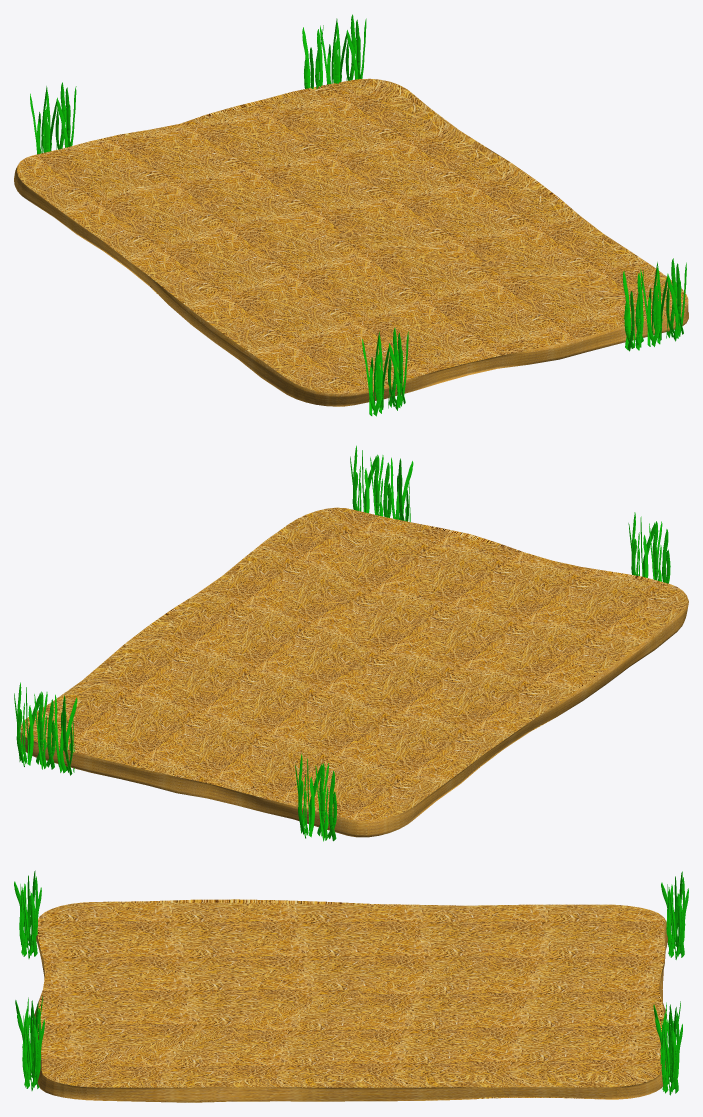
The model's file is islaFrenteIzq.glb.
3 renders of one model, top to bottom at view 1: azimuth 30°, elevation 25°; view 2: azimuth 150°, elevation 25°; view 3: azimuth 270°, elevation 25°, orthographic. The views are drawn at different scales.
Visible parts, largest first — view 1: Cube.001, Cone, Cone.002, Cone.006, Cone.001, Cone.007, Cone.009, Cone.003, Cone.008, Cone.004, Cone.005; view 2: Cube.001, Cone.008, Cone.004, Cone.003, Cone.009, Cone.005, Cone.001, Cone.007, Cone.002, Cone, Cone.006; view 3: Cube.001, Cone.009, Cone.003, Cone.006, Cone.002, Cone.007, Cone.001, Cone.008, Cone.004.
Boxes of the visible parts, bbox=[...] form: Cube.001: bbox=[14, 78, 688, 406]; Cone: bbox=[623, 270, 643, 351]; Cone.002: bbox=[666, 258, 686, 341]; Cone.006: bbox=[388, 328, 408, 410]; Cone.001: bbox=[640, 262, 667, 346]; Cone.007: bbox=[362, 331, 389, 416]; Cone.009: bbox=[55, 82, 76, 149]; Cone.003: bbox=[345, 14, 366, 80]; Cone.008: bbox=[30, 86, 56, 154]; Cone.004: bbox=[320, 18, 346, 84]; Cone.005: bbox=[302, 25, 323, 88]; Cube.001: bbox=[20, 507, 688, 837]; Cone.008: bbox=[315, 763, 336, 841]; Cone.004: bbox=[34, 691, 55, 769]; Cone.003: bbox=[14, 682, 40, 766]; Cone.009: bbox=[295, 754, 322, 838]; Cone.005: bbox=[54, 694, 77, 775]; Cone.001: bbox=[370, 454, 391, 517]; Cone.007: bbox=[649, 521, 670, 583]; Cone.002: bbox=[350, 445, 376, 513]; Cone: bbox=[390, 457, 413, 521]; Cone.006: bbox=[628, 512, 655, 577]; Cube.001: bbox=[34, 899, 667, 1102]; Cone.009: bbox=[667, 884, 688, 959]; Cone.003: bbox=[661, 1020, 682, 1095]; Cone.006: bbox=[20, 883, 41, 958]; Cone.002: bbox=[23, 1015, 44, 1090]; Cone.007: bbox=[14, 870, 38, 947]; Cone.001: bbox=[17, 1003, 41, 1079]; Cone.008: bbox=[661, 871, 685, 948]; Cone.004: bbox=[655, 1007, 679, 1084].
Bounding box in the file's own units: 12.15 × 2.29 × 18.39.
Materials: 2 (1 with a texture image).
